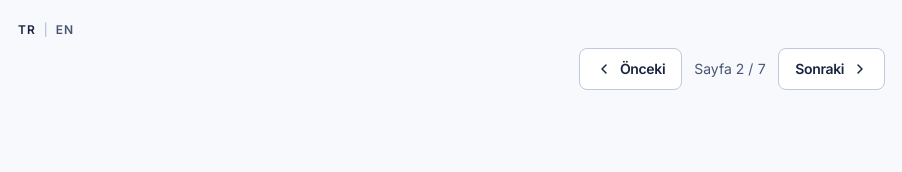
Test: LanguageToggle › interpolates parameters into the active language
This screenshot has width=902, height=172.
Check: the text "Sayfa 2 / 7" is shown, box [694,59,766,79]
Click the button "EN" at (65, 30), box [50,12,80,48]
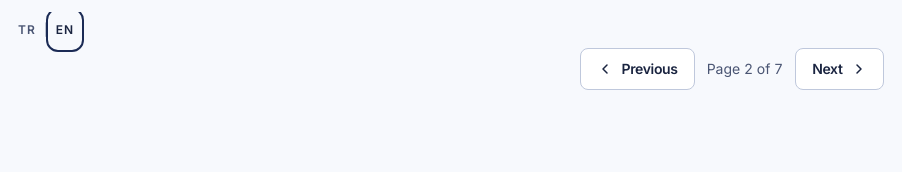
Check: the text "Page 2 of 7" is shown, box [707,59,783,79]
